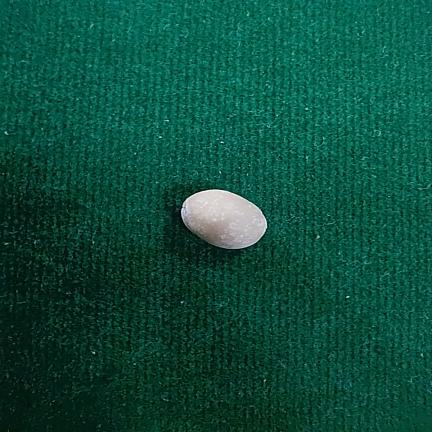immature: (181, 190, 267, 249)
